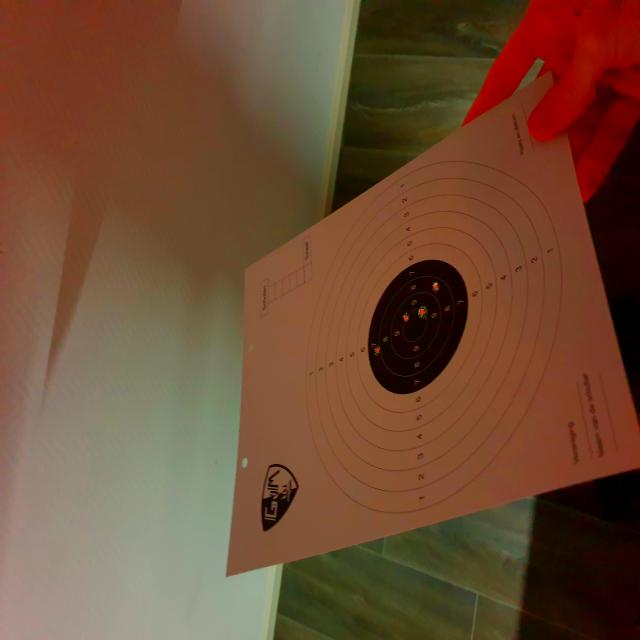10: (418, 305, 428, 319), (402, 312, 409, 323)
8: (432, 282, 440, 293), (374, 345, 382, 356)
Target: (304, 158, 564, 516)
black_contour: (368, 258, 468, 394)
